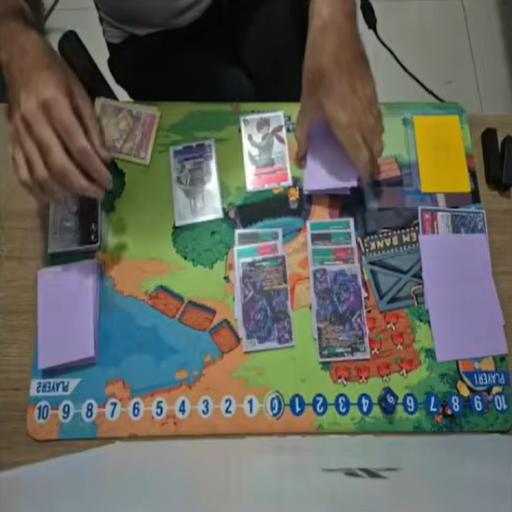card: (312, 264, 370, 368), (44, 170, 104, 256), (170, 136, 224, 226), (241, 261, 291, 355), (93, 98, 161, 165), (238, 108, 291, 188), (414, 205, 488, 238), (234, 240, 282, 268), (233, 227, 289, 248), (310, 244, 362, 266), (305, 214, 357, 234), (309, 229, 359, 248)
